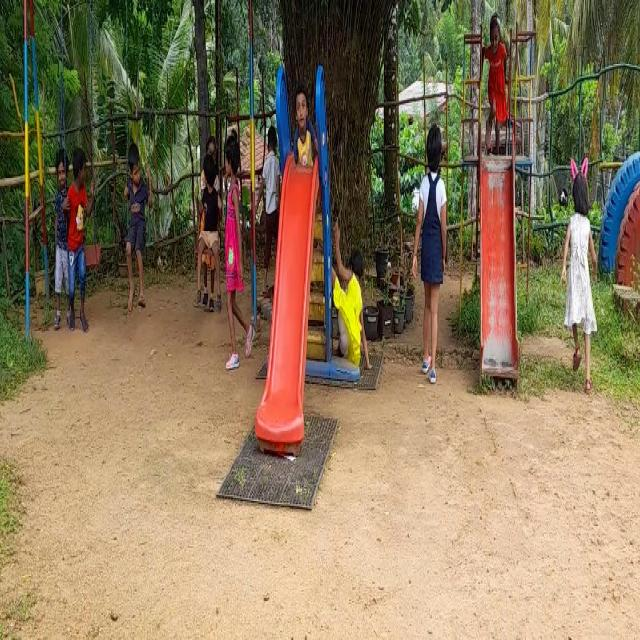child: (412, 110, 448, 393), (566, 152, 594, 376), (222, 110, 244, 374), (123, 136, 149, 318), (332, 240, 367, 370), (483, 0, 510, 156), (69, 144, 88, 326), (199, 152, 214, 312)
